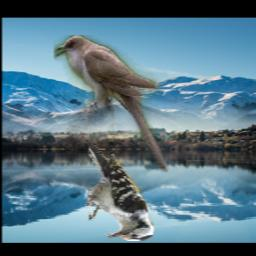Cuckoo: (55, 35, 170, 172)
Woodpecker: (88, 139, 155, 242)
